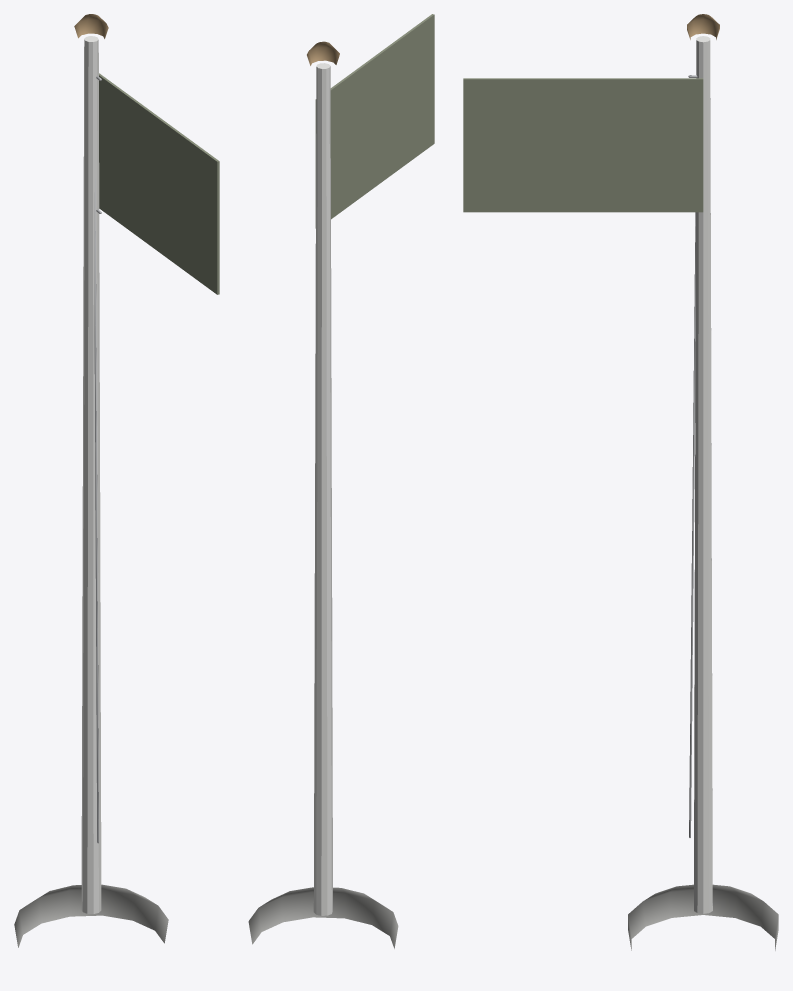
The model's file is flag-pole.glb.
3 renders of one model, left to right at view 1: azimuth 30°, elevation 25°; view 2: azimuth 150°, elevation 25°; view 3: azimuth 270°, elevation 25°, orthographic. The views are drawn at different scales.
Parts seen in each view (by area): view 1: flag-pole; view 2: flag-pole; view 3: flag-pole.
Boxes of the visible parts, left/top/right/bottom form: flag-pole: left=14, top=14, right=219, bottom=947; flag-pole: left=248, top=14, right=434, bottom=948; flag-pole: left=463, top=14, right=778, bottom=950.
Size of the model in its own units: 1.16 by 7.68 by 2.37.
